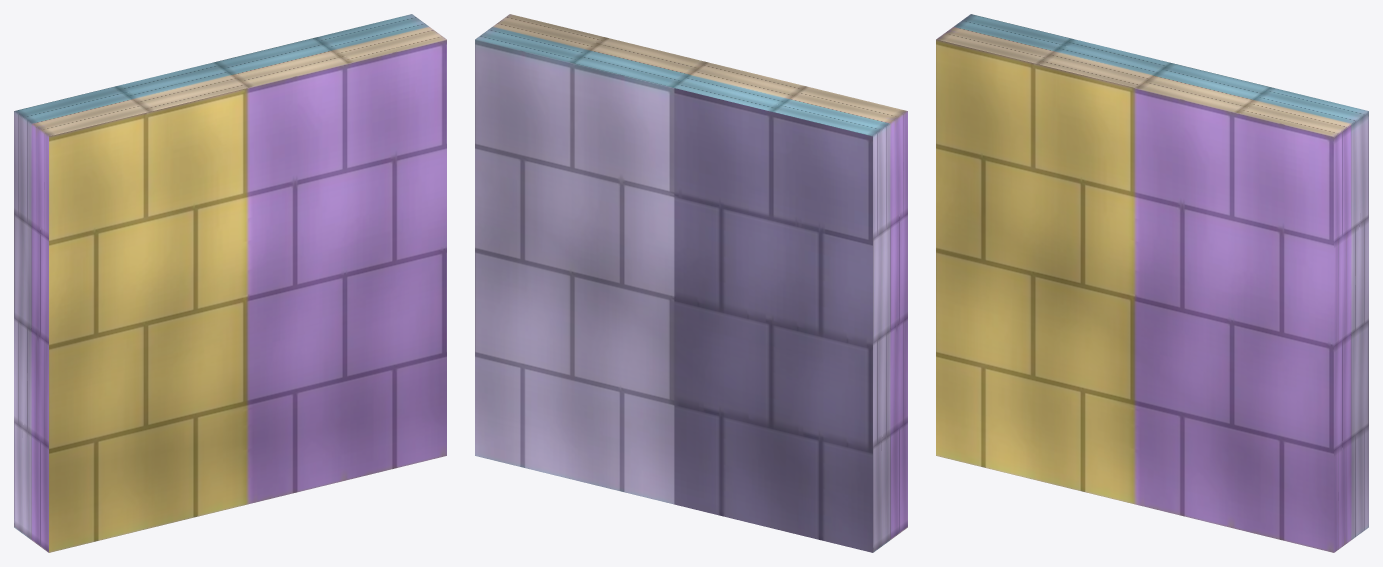
The model's file is wall_stone.glb.
3 renders of one model, left to right at view 1: azimuth 30°, elevation 25°; view 2: azimuth 150°, elevation 25°; view 3: azimuth 330°, elevation 25°, orthographic.
Visible parts, largest first — view 1: col; view 2: col; view 3: col.
Part boxes in pixels (x1,y1,x2,y2): col: (14, 14, 446, 552); col: (475, 14, 907, 552); col: (936, 14, 1368, 552).
Bounding box in the file's own units: 1.98 × 1.98 × 0.3.
1 material, 1 textured.
